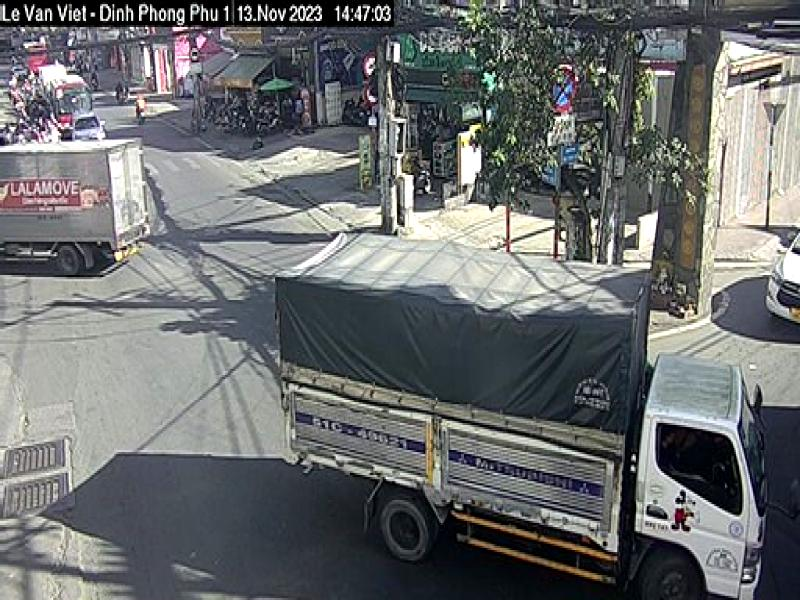truck: (272, 225, 767, 600)
